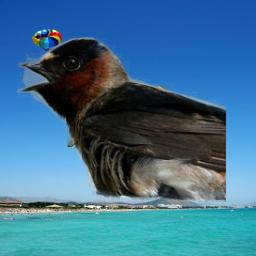Cuckoo: (67, 86, 170, 147)
Swallow: (17, 37, 226, 202)
